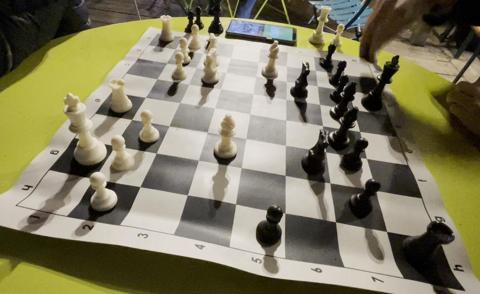xcorner: (339, 66, 351, 78), (310, 62, 322, 74), (281, 58, 293, 70), (253, 54, 265, 66), (225, 50, 237, 62), (197, 46, 209, 58), (170, 42, 182, 54), (343, 82, 355, 94), (281, 73, 293, 85), (251, 68, 263, 80), (221, 64, 233, 76), (191, 59, 203, 71), (161, 55, 173, 67), (349, 101, 361, 113), (281, 90, 293, 102), (248, 85, 260, 97), (216, 80, 228, 92), (151, 71, 163, 83), (318, 117, 330, 129), (281, 111, 293, 123), (210, 100, 222, 112), (140, 89, 152, 101), (362, 149, 374, 161), (281, 136, 293, 148), (203, 123, 215, 135), (164, 117, 176, 129), (126, 111, 138, 123), (371, 181, 383, 193), (326, 174, 338, 186), (281, 166, 293, 178), (237, 159, 249, 171), (194, 152, 206, 164), (383, 222, 395, 234), (332, 213, 344, 225), (281, 204, 293, 216), (232, 196, 244, 208), (183, 187, 195, 199), (136, 179, 148, 191), (89, 171, 101, 183), (312, 78, 324, 89), (315, 96, 327, 107), (183, 76, 195, 87), (355, 123, 367, 134), (245, 106, 257, 117), (175, 95, 187, 106), (322, 142, 333, 154), (242, 130, 254, 141), (152, 145, 163, 157), (110, 138, 121, 150)
